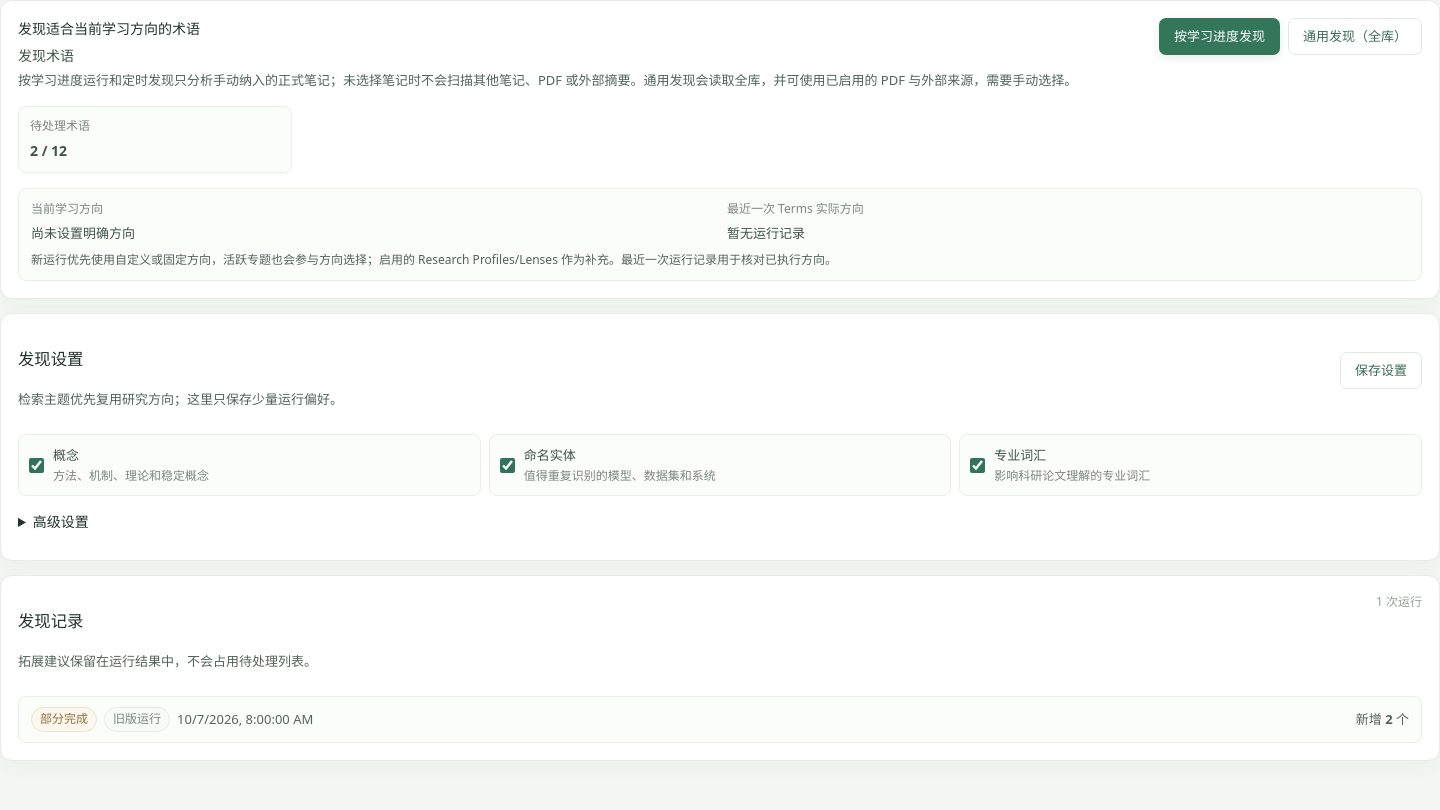
Test case: 发现术语 panel › localizes discovery history statuses, counts, outcomes, and readiness
Expected: the text "1 次运行" is shown, 1376,593 -> 1422,611
Expected: the text "部分完成" is shown, 31,707 -> 97,732
Step 1. Click the heading "部分完成 旧版运行 10/7/2026, 8:00:00 AM 新增 2 个" → (64, 719), box 31,707 -> 1409,732
(page scrolled)
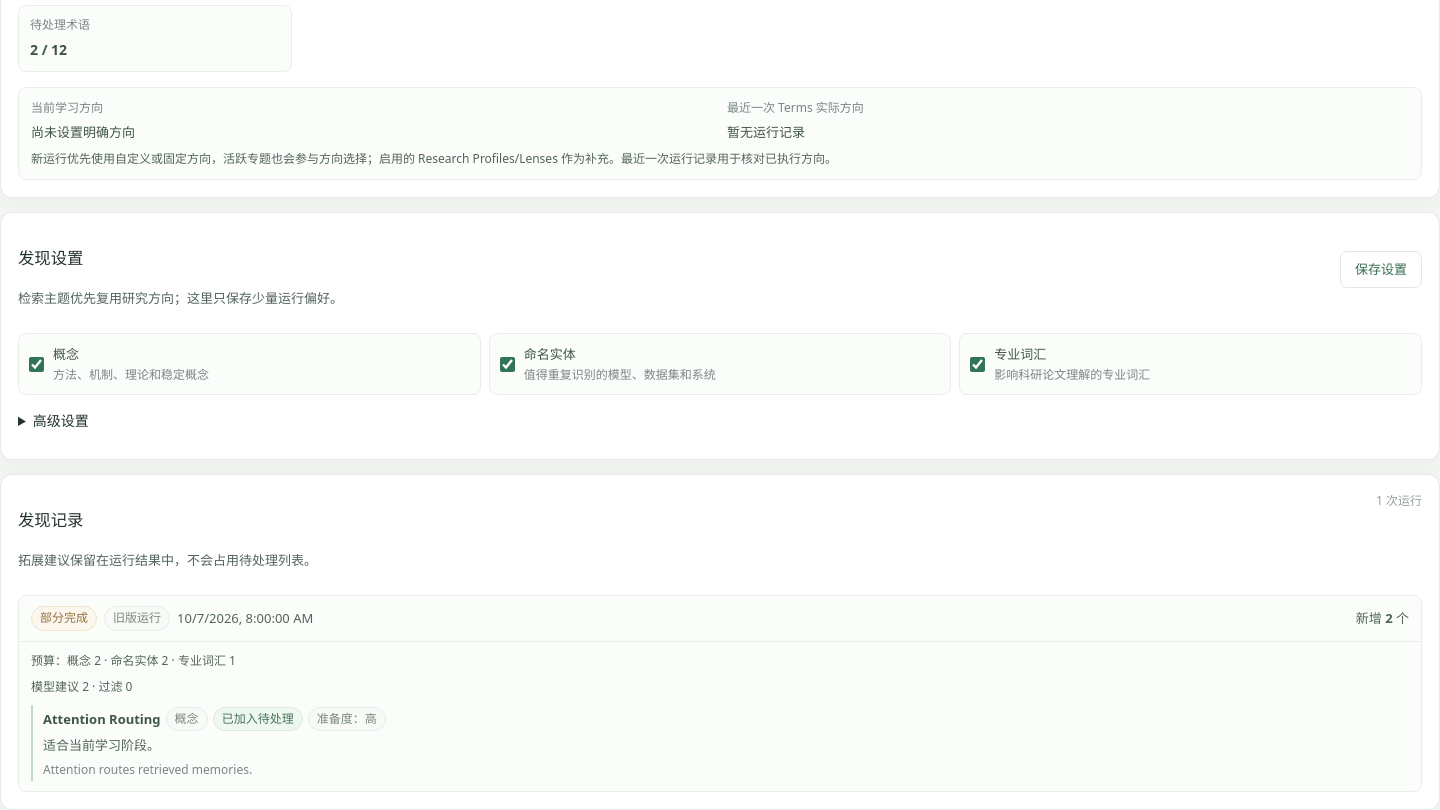
Result: the text "已加入待处理" is shown at 213,707 -> 303,731
Result: the text "准备度：高" is shown at 308,707 -> 386,731
Result: the text "概念" next to "Attention Routing" is shown at 175,710 -> 199,727
